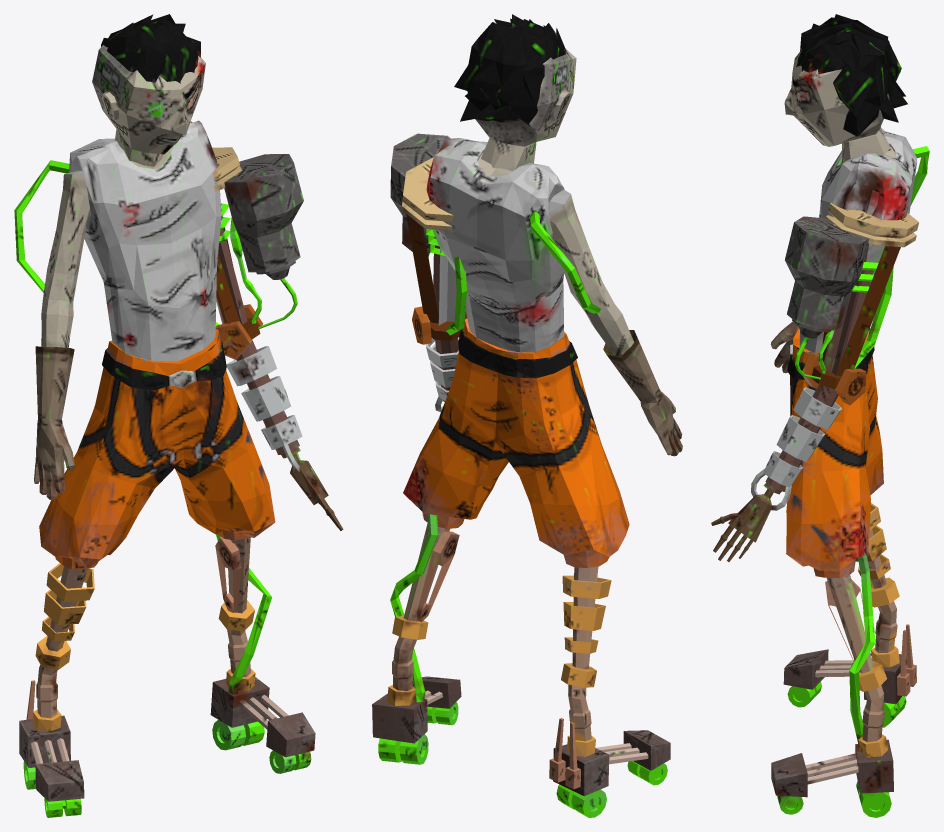
File: CyborgFINALAnimation_000001.obj
3 renders of one model, left to right at view 1: azimuth 30°, elevation 25°; view 2: azimuth 150°, elevation 25°; view 3: azimuth 270°, elevation 25°, orthographic. The views are drawn at different scales.
Visible parts, largest first — view 1: CyborgMesh_Cube.002; view 2: CyborgMesh_Cube.002; view 3: CyborgMesh_Cube.002.
Boxes of the visible parts, box(x1,y1,x2,y2) form: CyborgMesh_Cube.002: box(14, 14, 343, 817); CyborgMesh_Cube.002: box(372, 14, 682, 817); CyborgMesh_Cube.002: box(711, 14, 929, 817).
Bounding box in the file's own units: 3.61 × 9.62 × 2.57.
